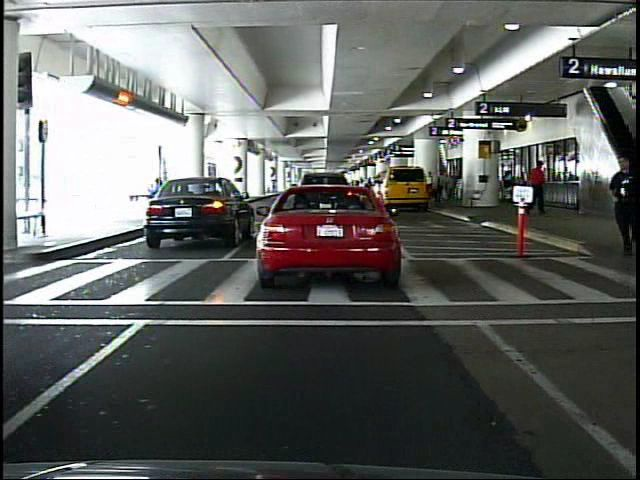person: (606, 154, 635, 256), (527, 159, 547, 216), (423, 166, 436, 202)
